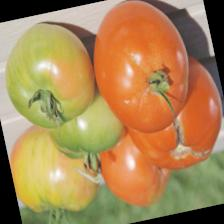tomato: (78, 0, 201, 142), (111, 45, 224, 178)
